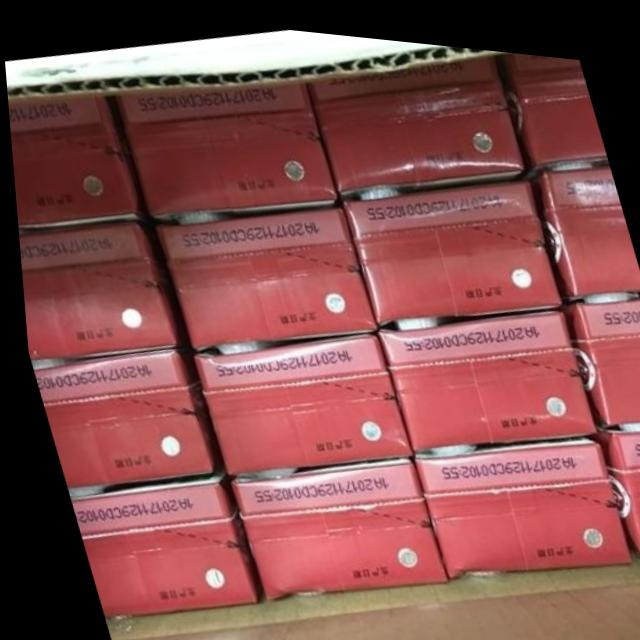box: (151, 200, 373, 348), (337, 170, 556, 316), (222, 450, 439, 597), (407, 423, 625, 569), (374, 299, 591, 443), (114, 75, 334, 216), (188, 327, 406, 469), (309, 45, 522, 189), (63, 458, 250, 616), (27, 344, 212, 485), (15, 217, 183, 359), (7, 91, 147, 227), (529, 154, 640, 288), (494, 42, 607, 168), (558, 283, 640, 413), (592, 413, 640, 541)
